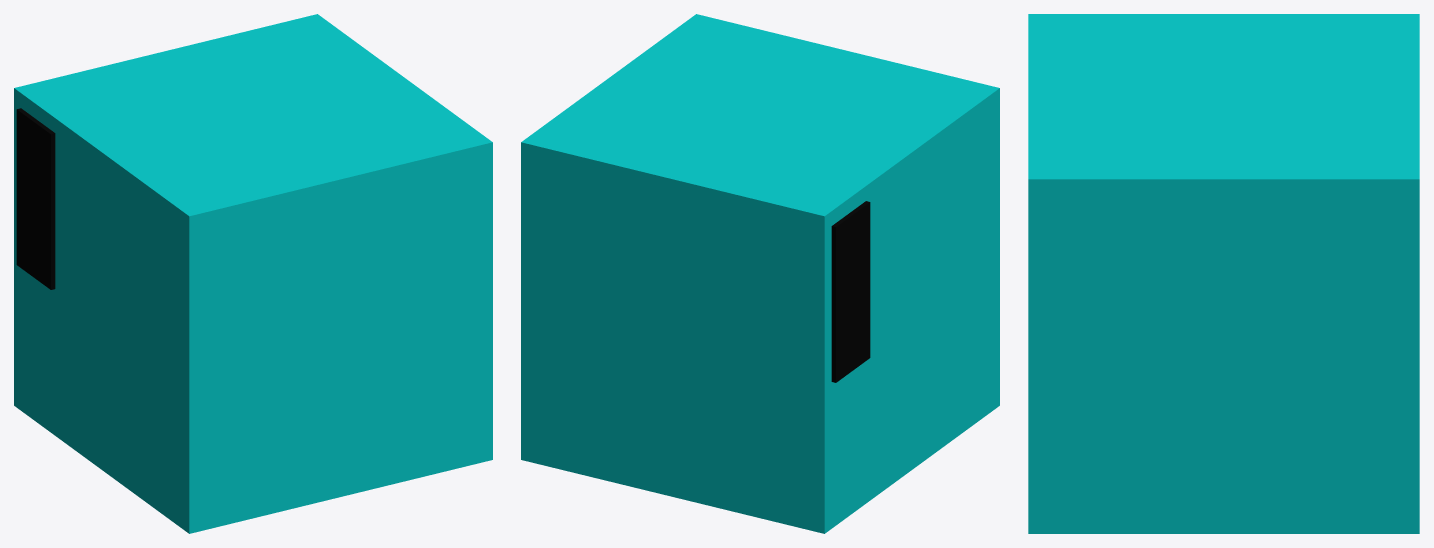
Rendered from hole.dae.
The picture shows the model from 3 angles, left to right: view 1: azimuth 30°, elevation 25°; view 2: azimuth 150°, elevation 25°; view 3: azimuth 270°, elevation 25°; orthographic projection. The views are drawn at different scales.
Visible parts, largest first — view 1: CubeOutside, Hole; view 2: CubeOutside, Hole; view 3: CubeOutside.
Part boxes in pixels (x1,y1,x2,y2): CubeOutside: (14, 14, 492, 533); Hole: (16, 108, 55, 289); CubeOutside: (521, 14, 999, 533); Hole: (831, 201, 870, 382); CubeOutside: (1028, 14, 1419, 533).
Size of the model in its own units: 2.07 by 2.04 by 2.04.
